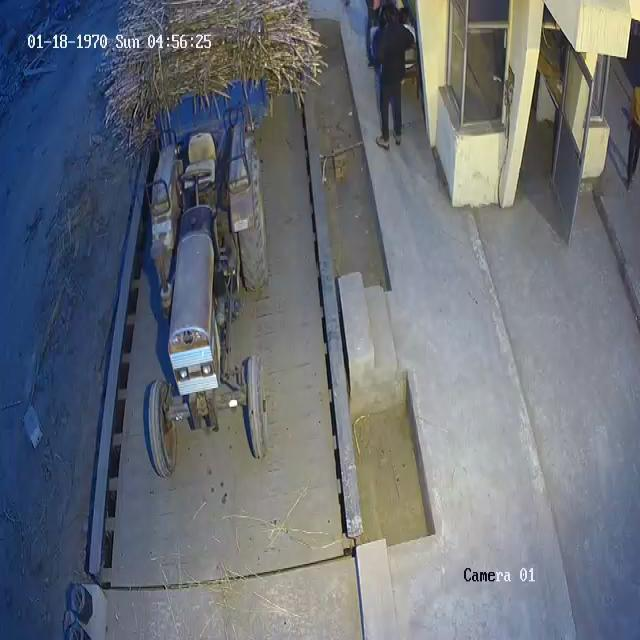Tratores - v5 YOLO V8L 2024-11-13: (148, 131, 270, 478)
